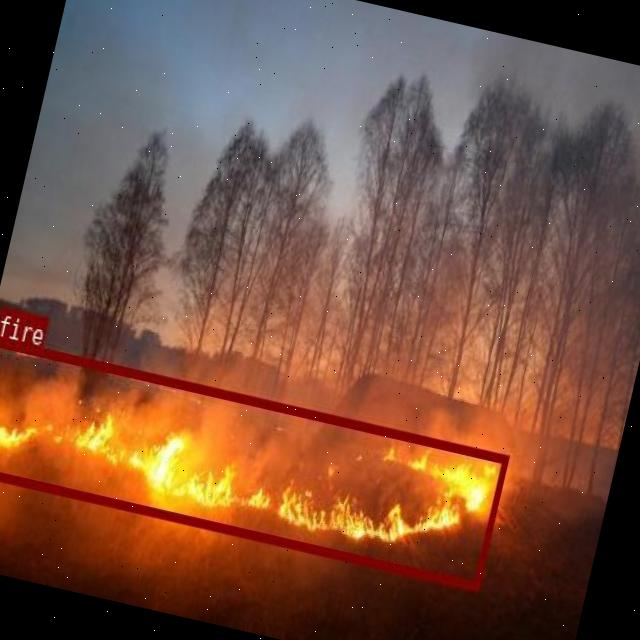fire: (0, 336, 508, 589)
